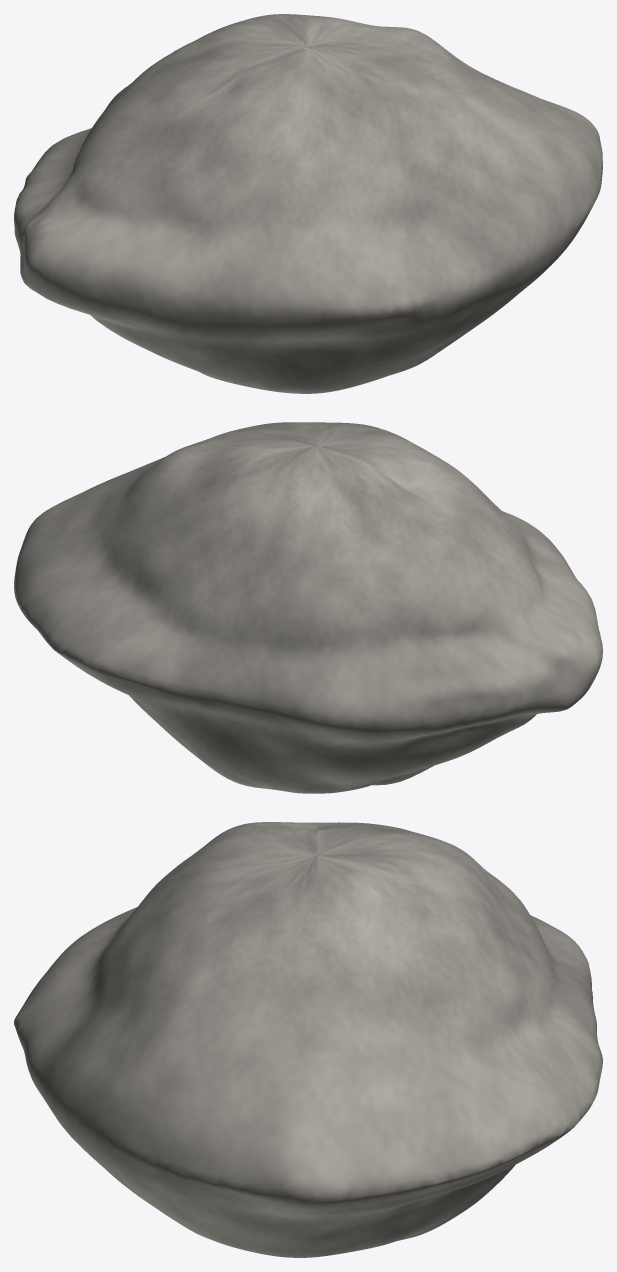
3 renders of one model, top to bottom at view 1: azimuth 30°, elevation 25°; view 2: azimuth 150°, elevation 25°; view 3: azimuth 270°, elevation 25°, orthographic. The views are drawn at different scales.
Parts seen in each view (by area): view 1: Pan; view 2: Pan; view 3: Pan.
Boxes of the visible parts, left/top/right/bottom form: Pan: left=14, top=14, right=602, bottom=393; Pan: left=14, top=422, right=602, bottom=793; Pan: left=14, top=822, right=602, bottom=1257.
Bounding box in the file's own units: 40.58 × 21.55 × 31.46.
1 material, 1 textured.
